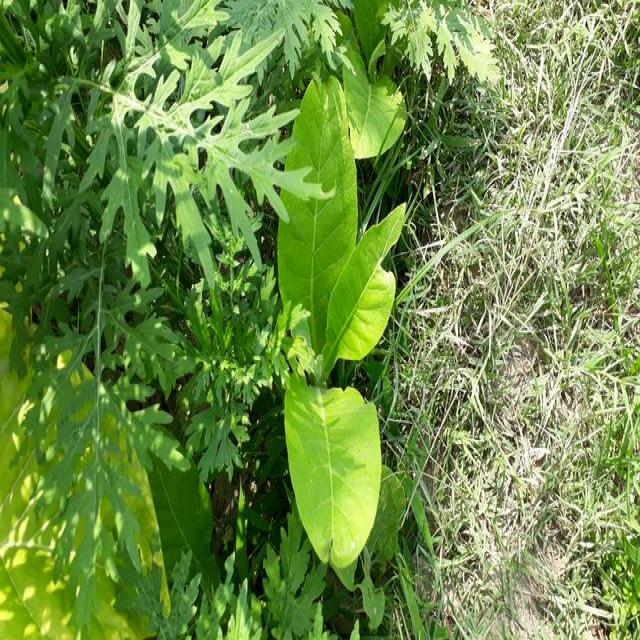crop: (278, 68, 399, 572)
